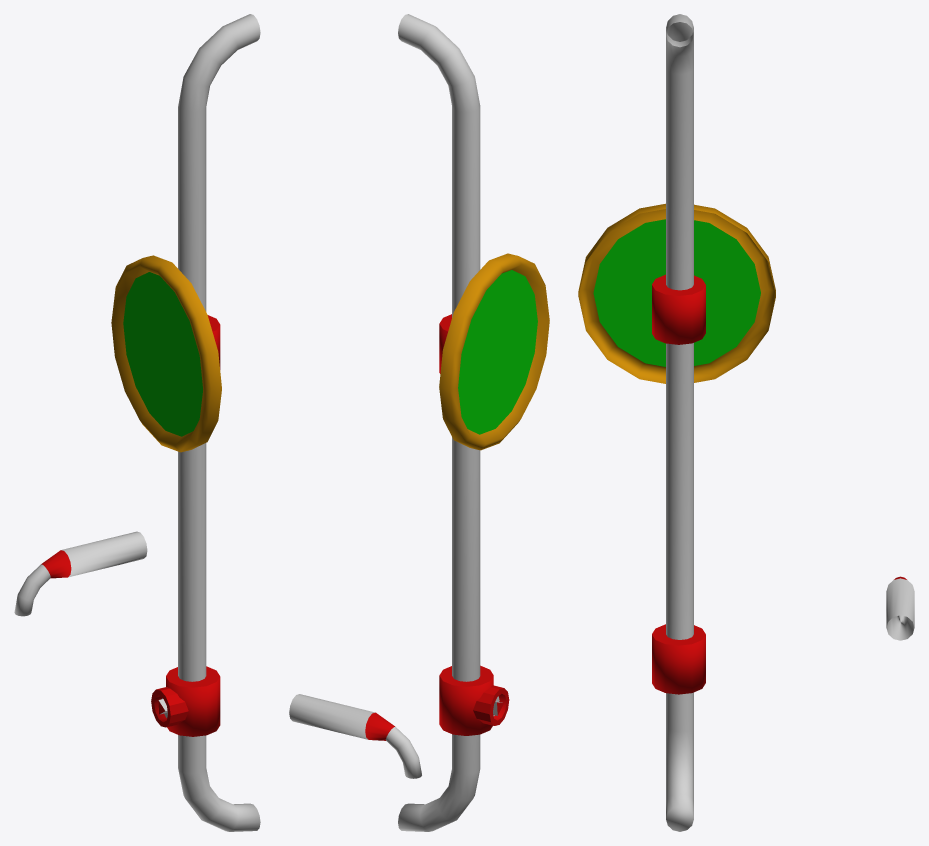
Rendered from pipe.obj.
The picture shows the model from 3 angles, left to right: view 1: azimuth 30°, elevation 25°; view 2: azimuth 150°, elevation 25°; view 3: azimuth 270°, elevation 25°; orthographic projection.
Visible parts, largest first — view 1: Cylinder.003; view 2: Cylinder.003; view 3: Cylinder.003.
Part boxes in pixels (<box>): Cylinder.003: <box>14,14,260,831</box>; Cylinder.003: <box>289,14,549,831</box>; Cylinder.003: <box>578,14,914,831</box>.
Size of the model in its own units: 0.0695 by 0.4261 by 0.1603.
